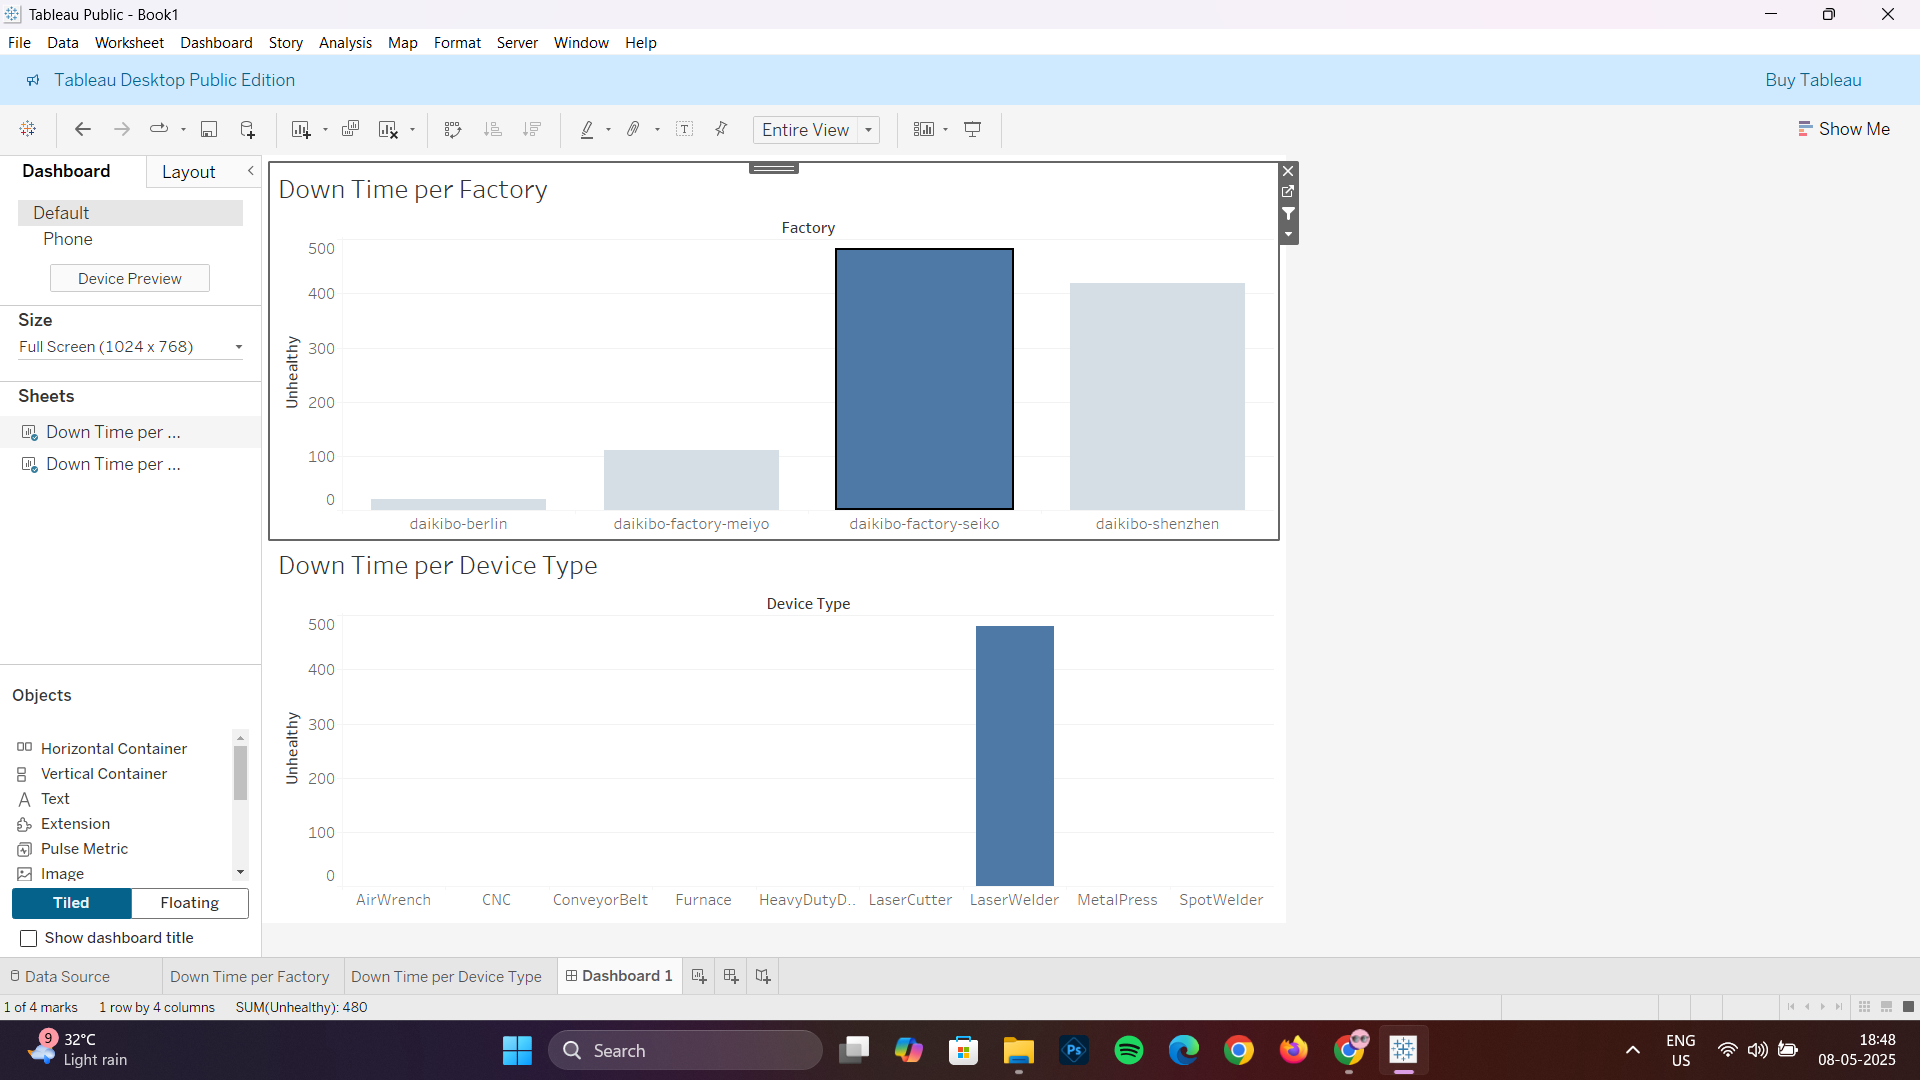

This screenshot's page, from the dashboard's own definition file:
{"tool":"tableau","page":{"name":"Dashboard 1","canvas":[1024,768],"ordinal":0},"visuals":[{"type":"worksheet","title":"Down Time per Factory","mark":"Automatic","rows":["Calculation_767300794206535680"],"cols":["factory"],"box":[8,8,1008,376]},{"type":"worksheet","title":"Down Time per Device Type","mark":"Automatic","rows":["Calculation_767300794206535680"],"cols":["deviceType"],"box":[8,384,1008,376]}]}

Visuals, with their boxes on the page's 1024x768 design canvas (x1, y1, x2, y2). These are canvas units, not pixel positions in the 1920x1080 screenshot, which may show the page scaled, cropped or inside an application window:
"Down Time per Factory" worksheet: {"x1": 8, "y1": 8, "x2": 1016, "y2": 384}
"Down Time per Device Type" worksheet: {"x1": 8, "y1": 384, "x2": 1016, "y2": 760}
